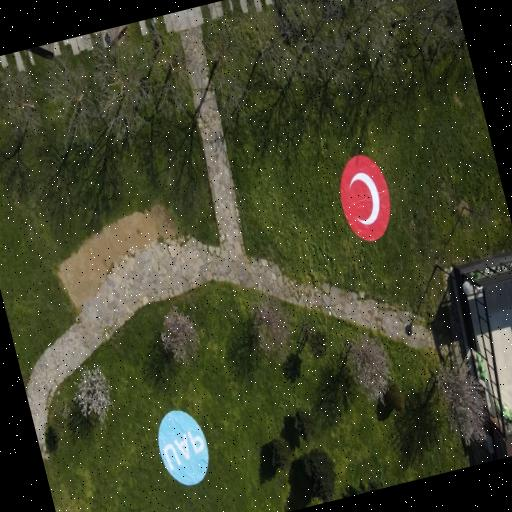UAI: (341, 155, 390, 241)
UAP: (159, 411, 209, 485)
